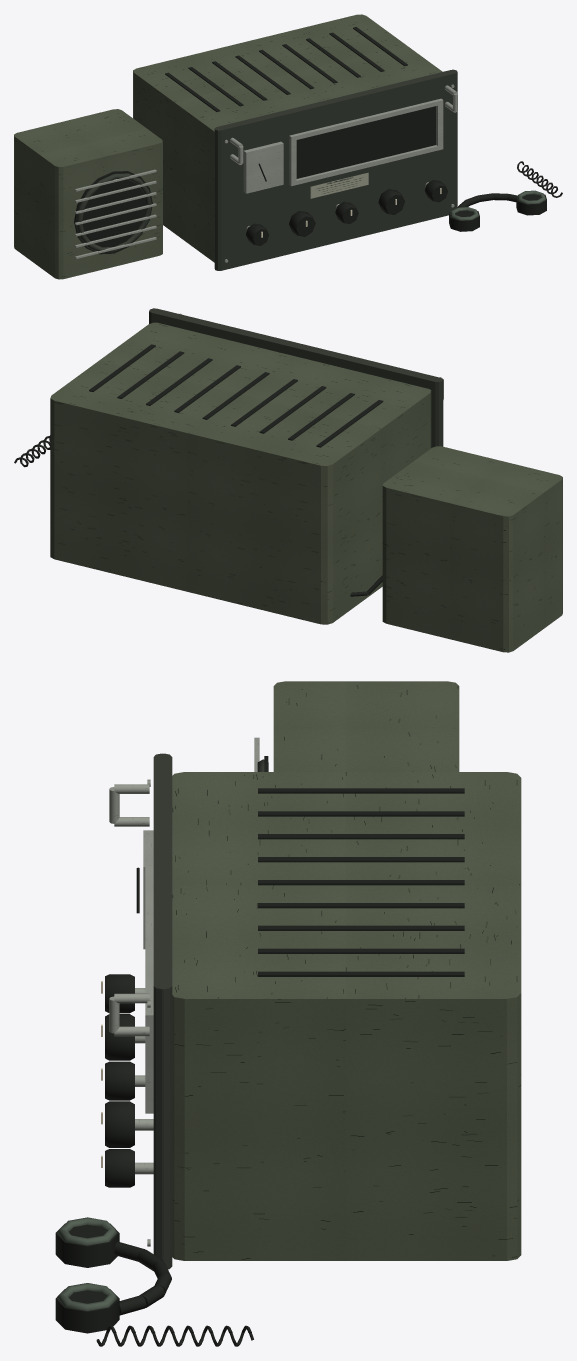
The model's file is SM_FieldKit_Receiver_LOD1.glb.
3 renders of one model, top to bottom at view 1: azimuth 30°, elevation 25°; view 2: azimuth 150°, elevation 25°; view 3: azimuth 270°, elevation 25°, orthographic. The views are drawn at different scales.
Visible parts, largest first — view 1: SM_FieldKit_Receiver_LOD1; view 2: SM_FieldKit_Receiver_LOD1; view 3: SM_FieldKit_Receiver_LOD1.
Boxes of the visible parts, bbox=[...] form: SM_FieldKit_Receiver_LOD1: bbox=[14, 14, 562, 279]; SM_FieldKit_Receiver_LOD1: bbox=[14, 308, 562, 652]; SM_FieldKit_Receiver_LOD1: bbox=[55, 681, 521, 1346].
Size of the model in its own units: 1.03 by 0.309 by 0.451.
7 materials, 3 textured.
